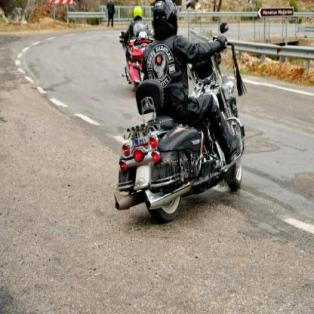Motocicleta: (100, 45, 248, 224)
